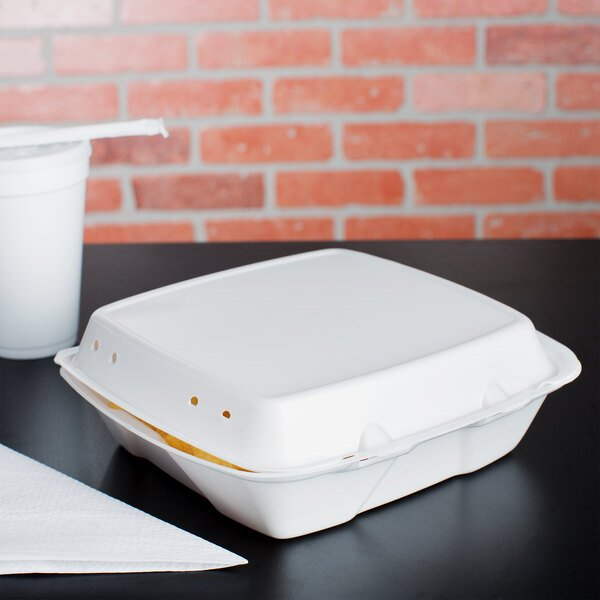styrofoam: (56, 240, 584, 542)
